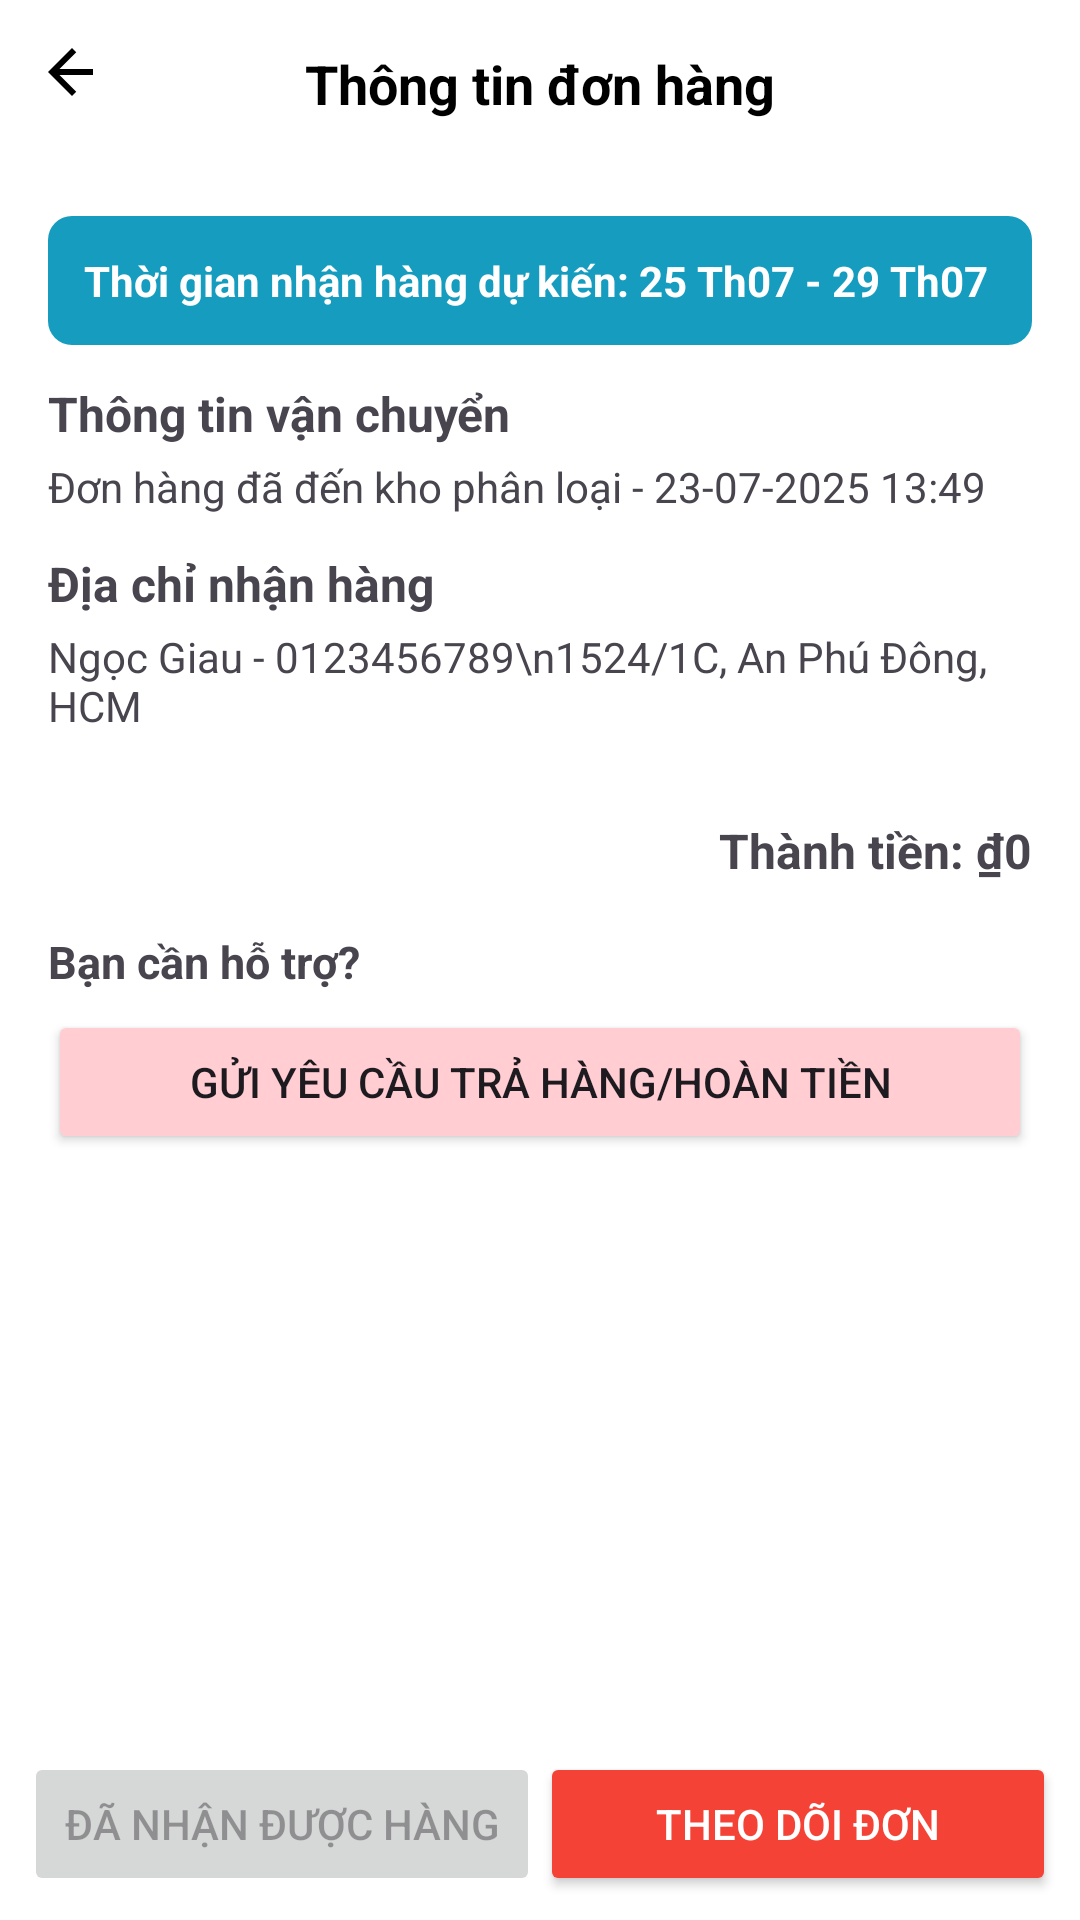

Named icons in this screenshot (1080×1920) and their bounding boxes, (x1, y1, x2, y2):
Back: (48, 48, 93, 96)
